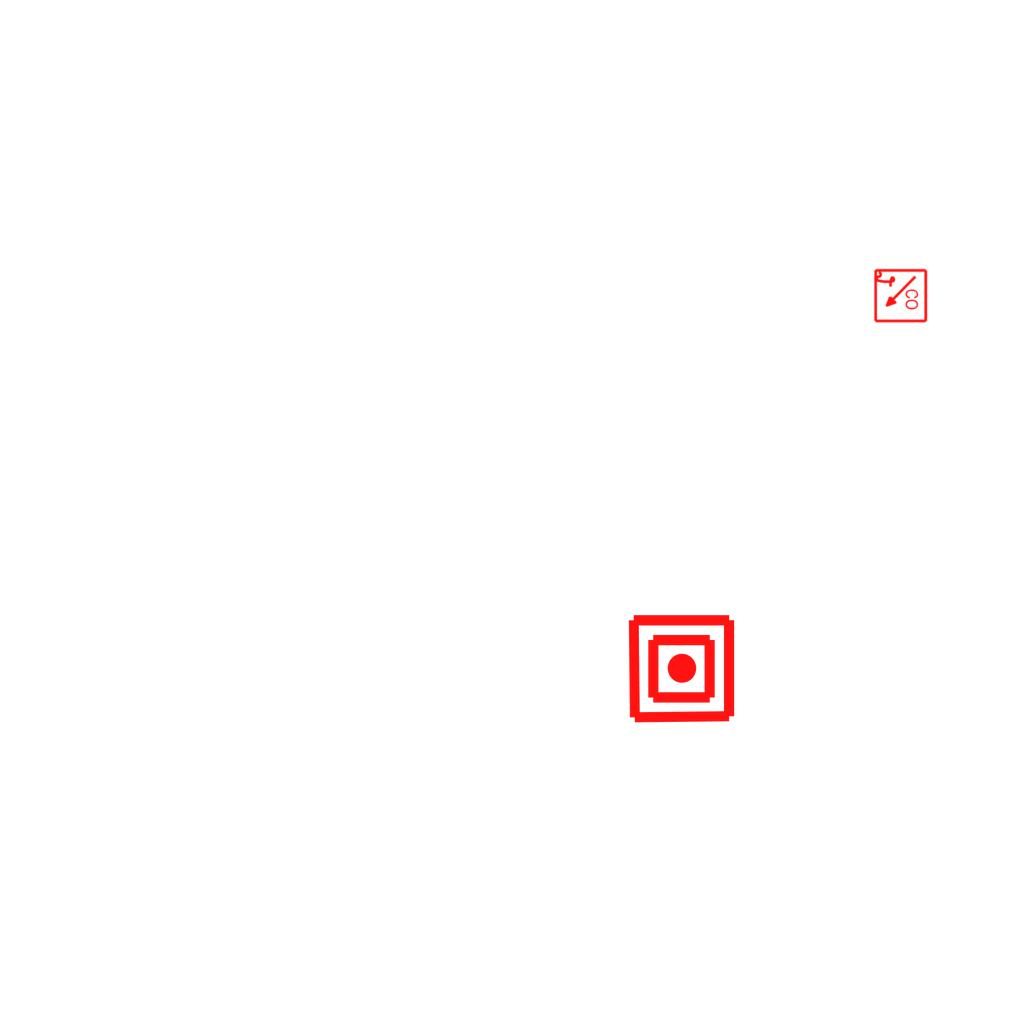NAM-Nichtautomatischer_Melder: (625, 612, 738, 725)
ROA_Rauchmelder_optisch_mit_Signalgeber_(Sockelsirene): (872, 268, 928, 324)
